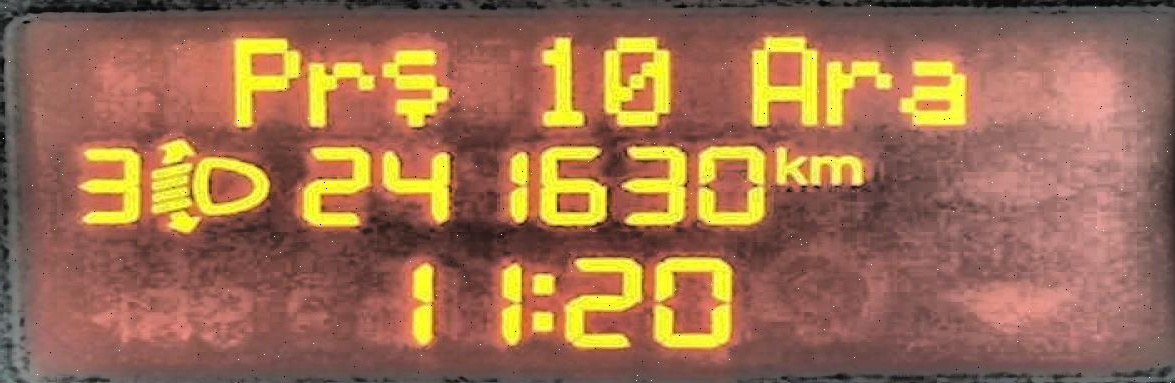0: (647, 253, 737, 349), (597, 31, 673, 131), (692, 141, 762, 227)
1: (535, 30, 588, 135), (402, 255, 442, 349), (495, 258, 528, 350), (500, 147, 528, 226)
2: (558, 253, 640, 353), (295, 143, 371, 230)
3: (613, 141, 688, 227), (73, 142, 142, 226)
4: (377, 145, 453, 224)
6: (535, 142, 608, 226)
X: (745, 31, 818, 127), (228, 34, 300, 127), (378, 44, 448, 129), (818, 53, 893, 128), (893, 58, 965, 127), (303, 58, 372, 127), (808, 151, 862, 184), (528, 269, 555, 334), (773, 143, 807, 185)
